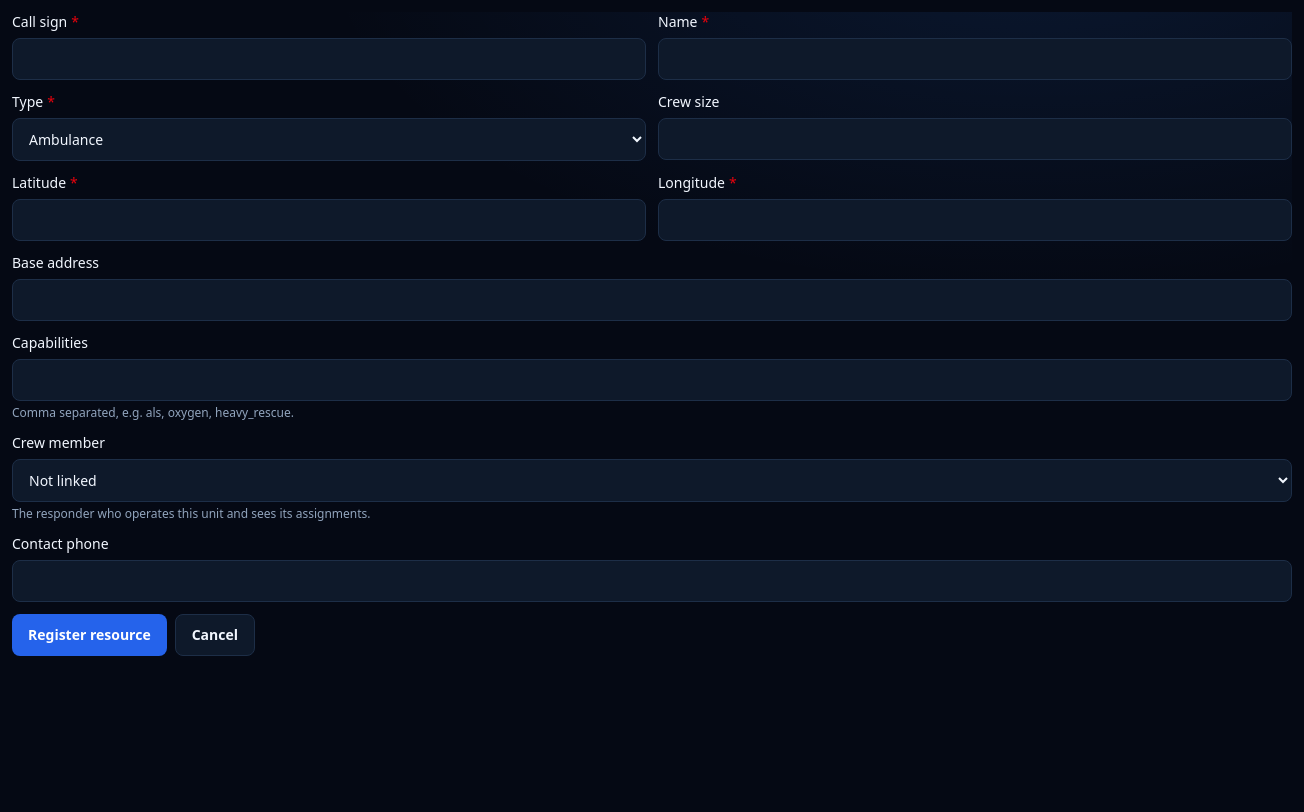
ResourceForm › blocks submission and flags the fields when input is invalid
What coordinates should you click on to do the following:
click the button "Register resource"
I would click on:
 (89, 635)
Its box is [12, 614, 167, 656].
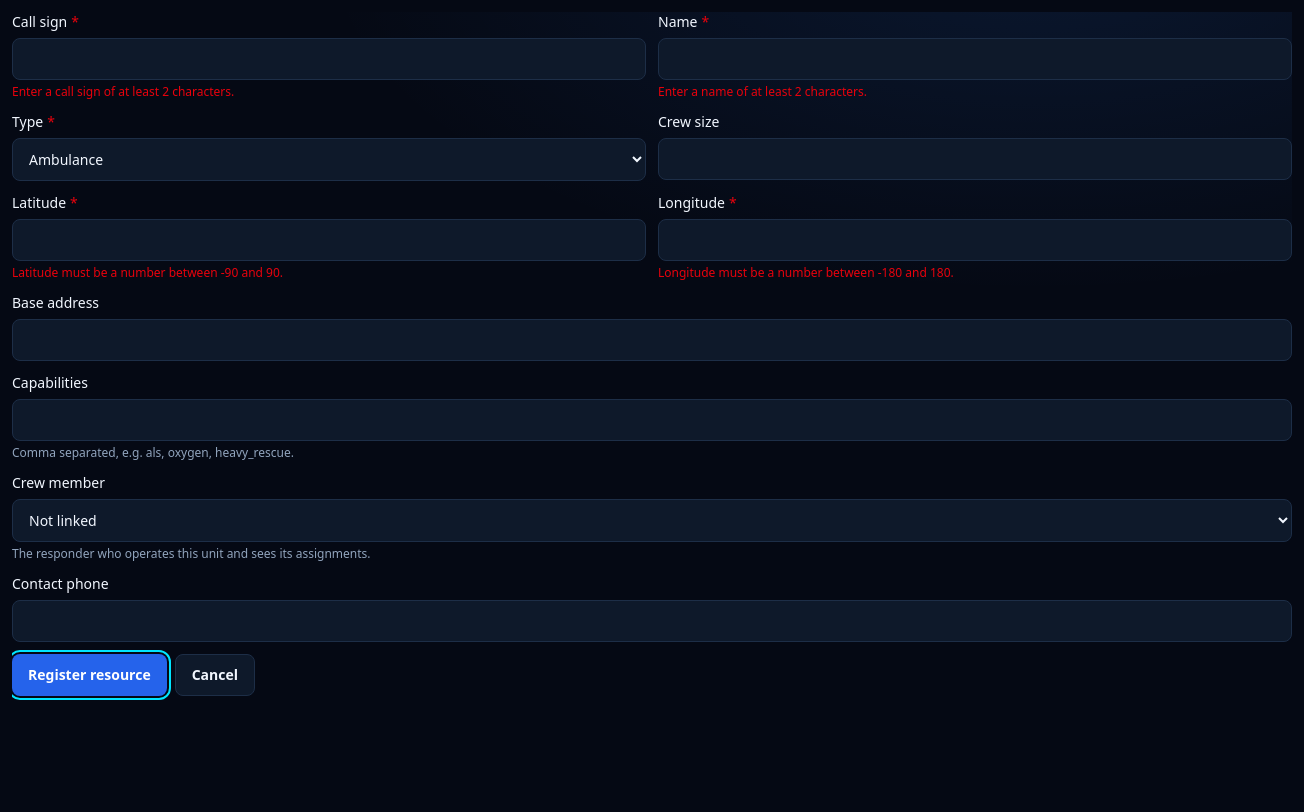
Result: the text "Latitude must be a number between -90 and 90." is shown at [12, 264, 283, 281]
Result: the text "Enter a call sign of at least 2 characters." is shown at [12, 83, 234, 100]
